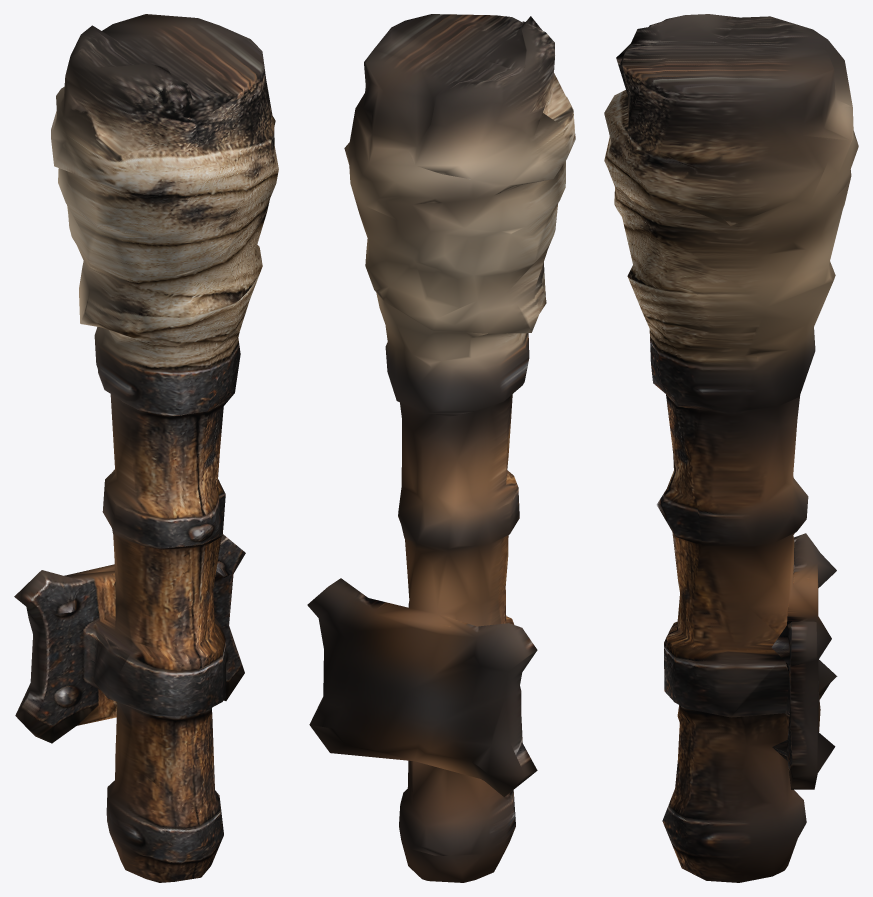
The model's file is torch.glb.
3 renders of one model, left to right at view 1: azimuth 30°, elevation 25°; view 2: azimuth 150°, elevation 25°; view 3: azimuth 270°, elevation 25°, orthographic.
Parts seen in each view (by area): view 1: torch; view 2: torch; view 3: torch.
Part boxes in pixels (bbox=[...]): torch: bbox=[14, 14, 278, 882]; torch: bbox=[307, 14, 575, 882]; torch: bbox=[604, 14, 858, 882].
Size of the model in its own units: 0.1603 by 0.577 by 0.1603.
Materials: 1 (1 with a texture image).
